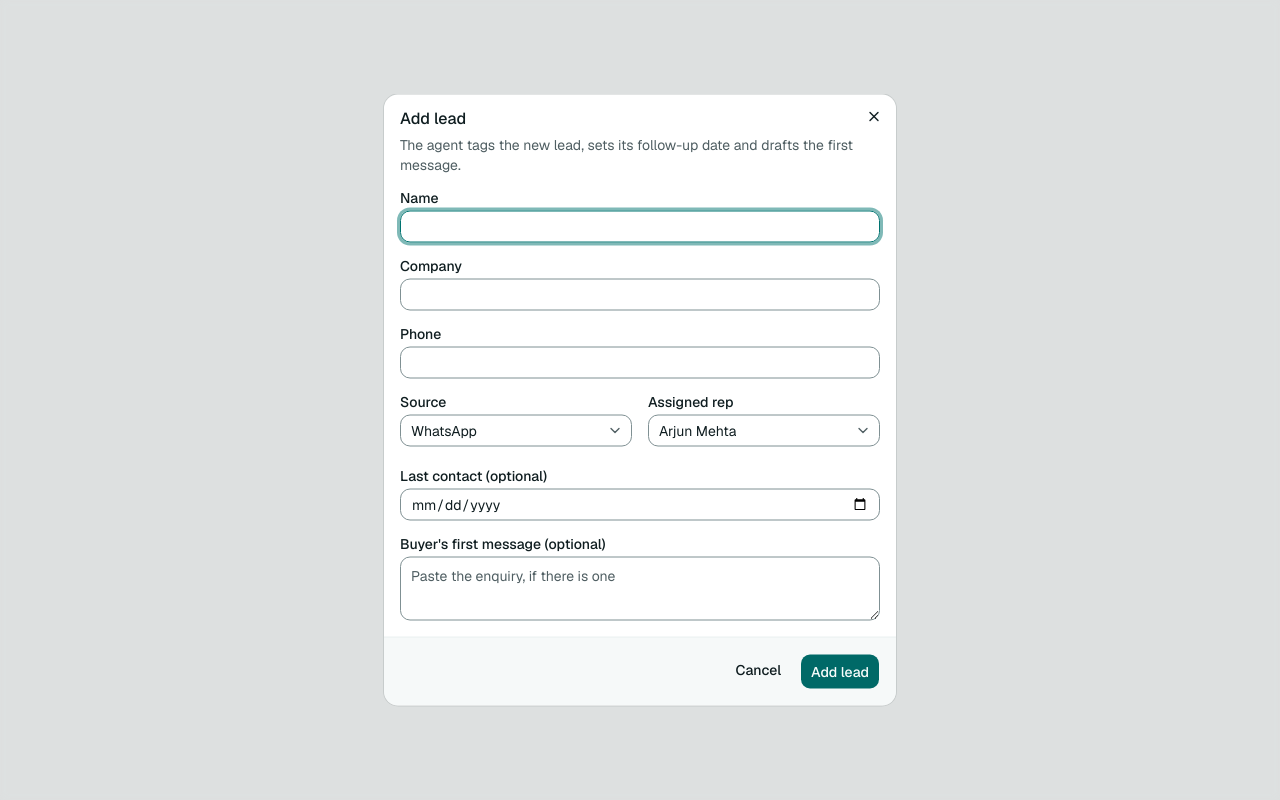
Scenario: AddLeadDialog › rejects a phone number without enough digits
In the field labelled "Phone": (640, 362) [400, 346, 880, 378], type "12ab"
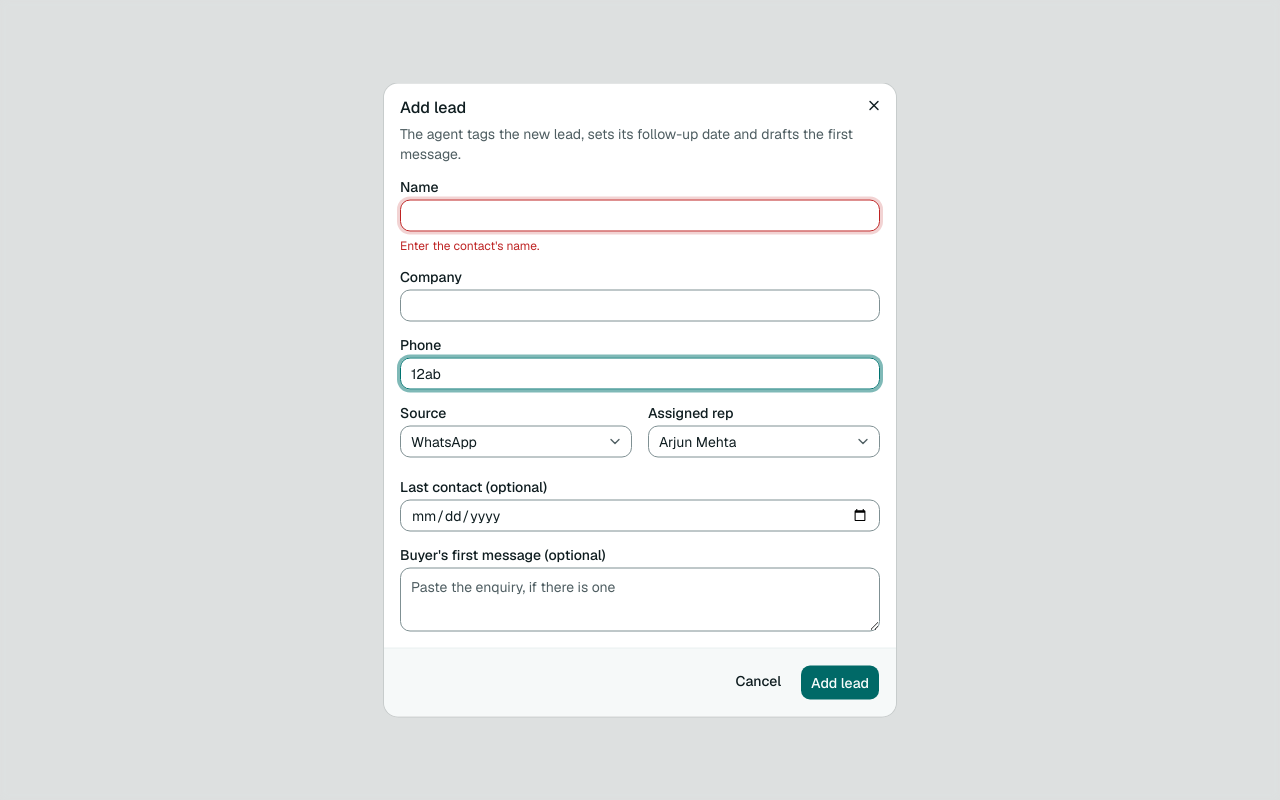
Press Tab
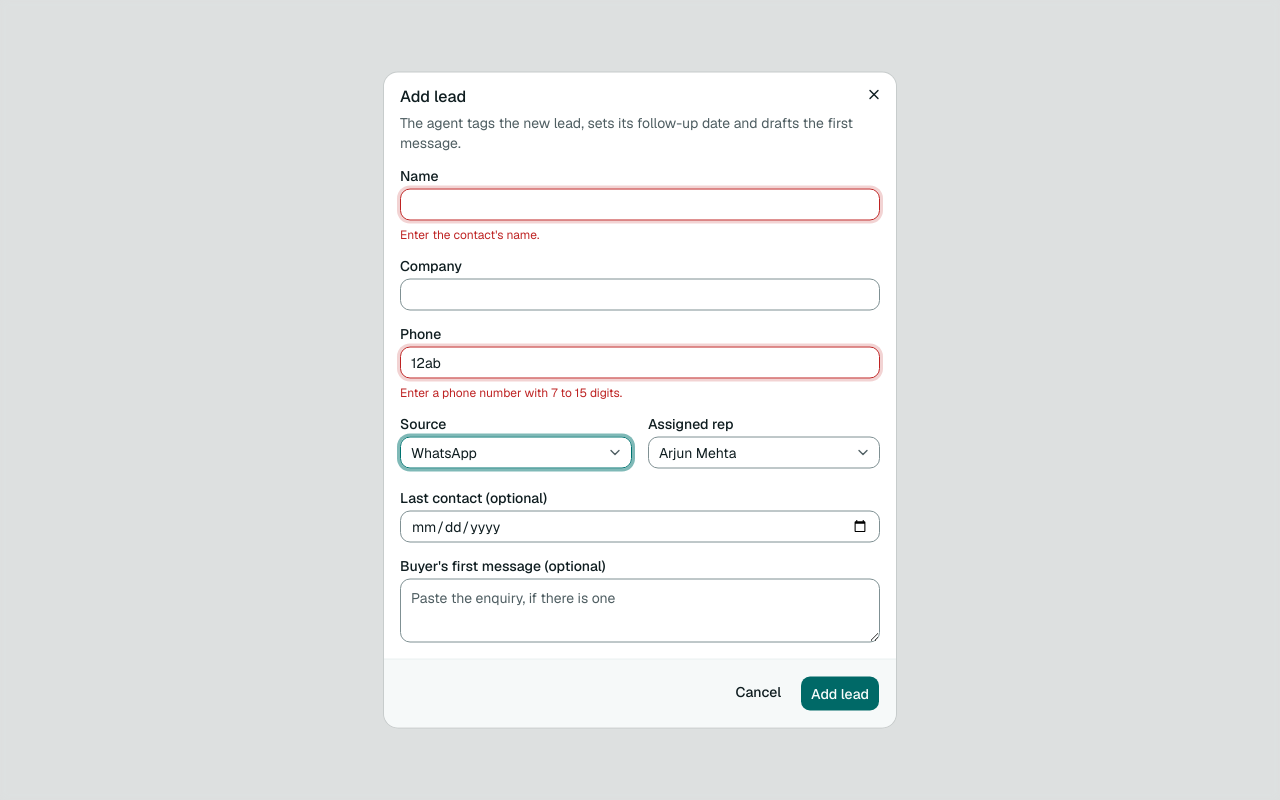
Expected: the text "Enter a phone number with 7 to 15 digits." is shown, [400, 384, 622, 400]
